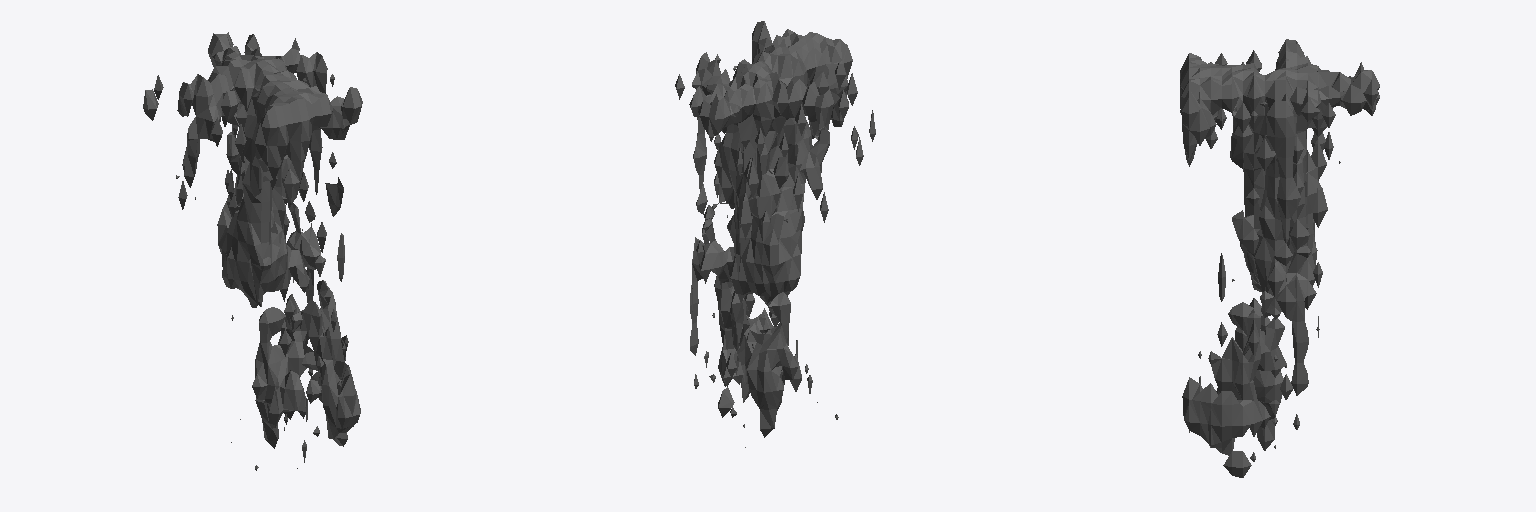
The model's file is flame_fire.obj.
The picture shows the model from 3 angles: view 1: azimuth 30°, elevation 25°; view 2: azimuth 150°, elevation 25°; view 3: azimuth 270°, elevation 25°; orthographic projection.
Parts seen in each view (by area): view 1: polySurface1; view 2: polySurface1; view 3: polySurface1.
Part boxes in pixels (bbox=[...]): polySurface1: bbox=[143, 32, 362, 470]; polySurface1: bbox=[675, 21, 875, 447]; polySurface1: bbox=[1180, 39, 1379, 477].
Bounding box in the file's own units: 4.68 × 12.28 × 5.84.